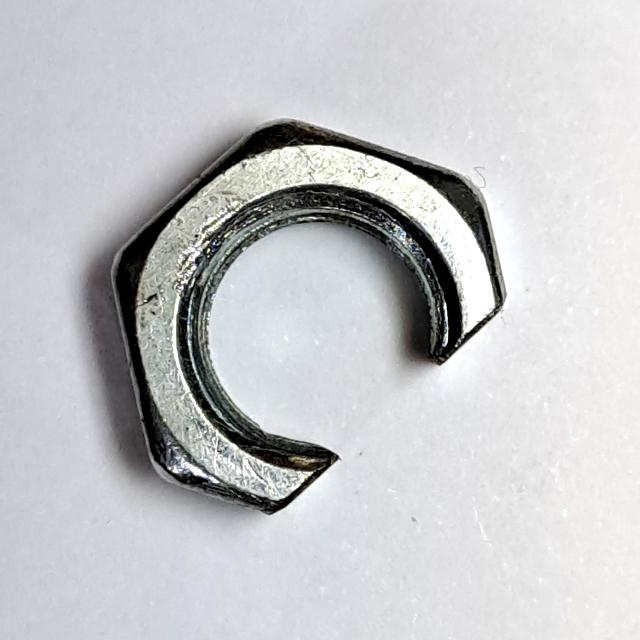Fracture: (94, 106, 522, 528)
